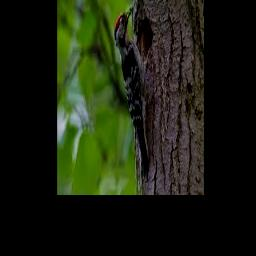Woodpecker: (115, 6, 153, 180)
